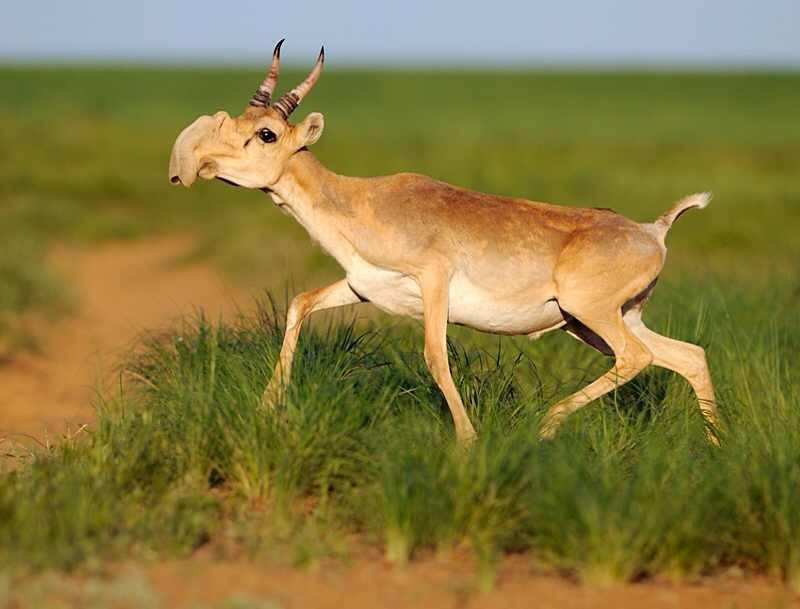saiga: (167, 38, 729, 452)
